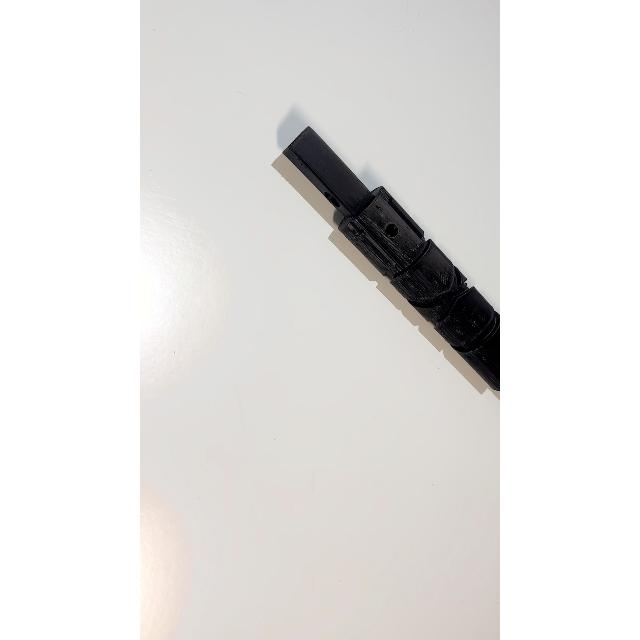Pieza_1: (266, 110, 499, 412)
